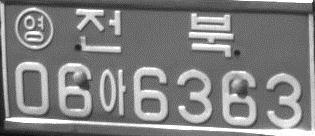0: (14, 61, 50, 116)
3: (265, 72, 301, 129), (176, 69, 213, 124)
6: (220, 69, 257, 127), (132, 65, 168, 122), (57, 62, 92, 119)
아: (98, 68, 128, 116)
영: (13, 6, 54, 51)
전북_D: (74, 7, 234, 57)
